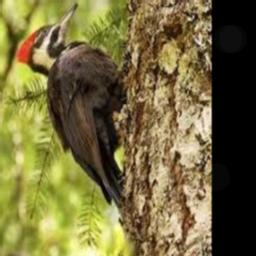Woodpecker: (16, 1, 127, 209)
